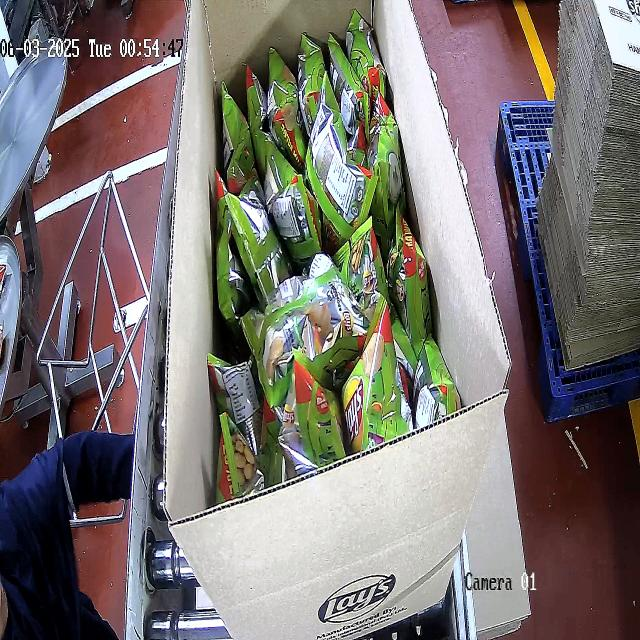YOGURT_HERB: (213, 11, 460, 487)
